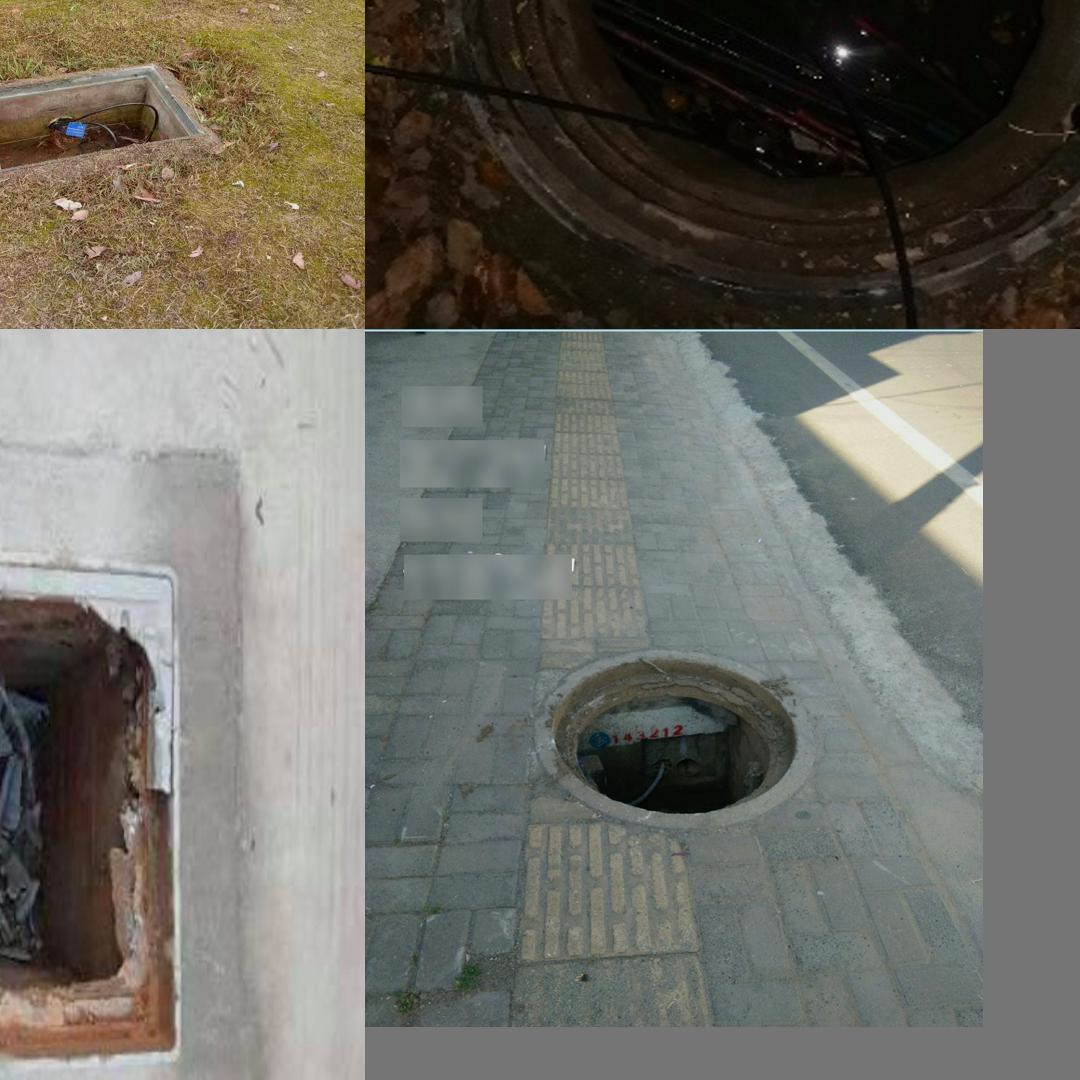lose: (441, 0, 1080, 303), (0, 520, 182, 1080), (533, 649, 817, 832), (0, 62, 203, 178)
